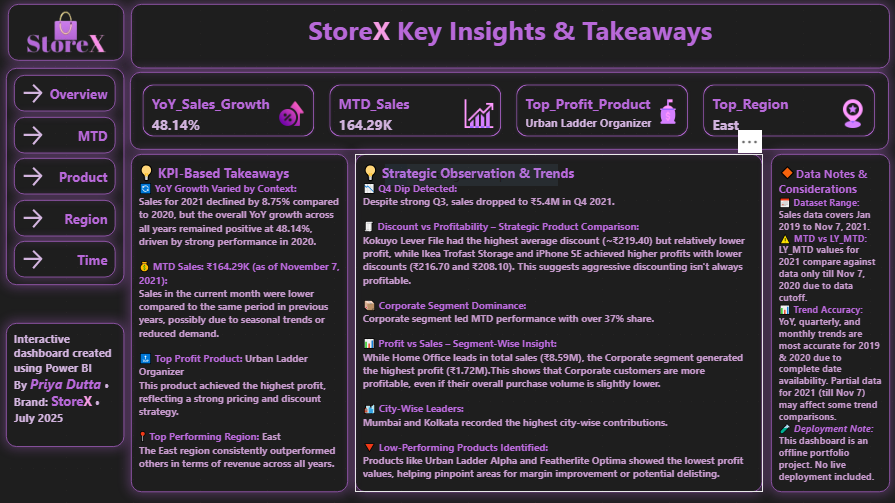

What the dashboard file says about the page in this screenshot:
{"tool":"powerbi","page":{"name":"Insights","canvas":[1280,720],"ordinal":5},"visuals":[{"type":"image","box":[13.1,7.3,165.8,81.5],"z":0},{"type":"shape","box":[10.2,98.9,168.7,309.8],"z":1000},{"type":"actionButton","box":[21.8,109.1,145.5,52.4],"z":2000},{"type":"actionButton","box":[21.8,168.7,145.5,52.4],"z":3000},{"type":"actionButton","box":[21.8,226.9,145.5,52.4],"z":4000},{"type":"actionButton","box":[21.8,286.5,145.5,52.4],"z":5000},{"type":"actionButton","box":[21.8,346.2,145.5,52.4],"z":6000},{"type":"textbox","box":[189.1,7.3,1083.6,91.6],"z":7000},{"type":"cardVisual","fields":{"Data":["Sales_Data.YoY_Sales_Growth","Sales_Data.MTD_Sales","Sales_Data.Top_Profit_Product","Sales_Data.Top_Region_By_Sales"]},"box":[187.6,104.7,1083.6,110.5],"z":8000},{"type":"textbox","box":[509.1,221.1,581.8,482.9],"z":9000},{"type":"textbox","box":[189.1,221.1,309.8,482.9],"z":10000},{"type":"textbox","box":[1102.5,221.1,170.2,482.9],"z":11000},{"type":"textbox","box":[10.2,462.5,168.7,177.5],"z":12000}]}

Visuals, with their boxes in screenshot pixels (x1, y1, x2, y2), scaled from the page's 1280x720 canvas onto the 895x503 screenshot:
image: box=[9, 5, 125, 62]
shape: box=[7, 69, 125, 286]
actionButton: box=[15, 76, 117, 113]
actionButton: box=[15, 118, 117, 154]
actionButton: box=[15, 159, 117, 195]
actionButton: box=[15, 200, 117, 237]
actionButton: box=[15, 242, 117, 278]
textbox: box=[132, 5, 890, 69]
cardVisual - Sales_Data.YoY_Sales_Growth x Sales_Data.MTD_Sales: box=[131, 73, 889, 150]
textbox: box=[356, 154, 763, 492]
textbox: box=[132, 154, 349, 492]
textbox: box=[771, 154, 890, 492]
textbox: box=[7, 323, 125, 447]
